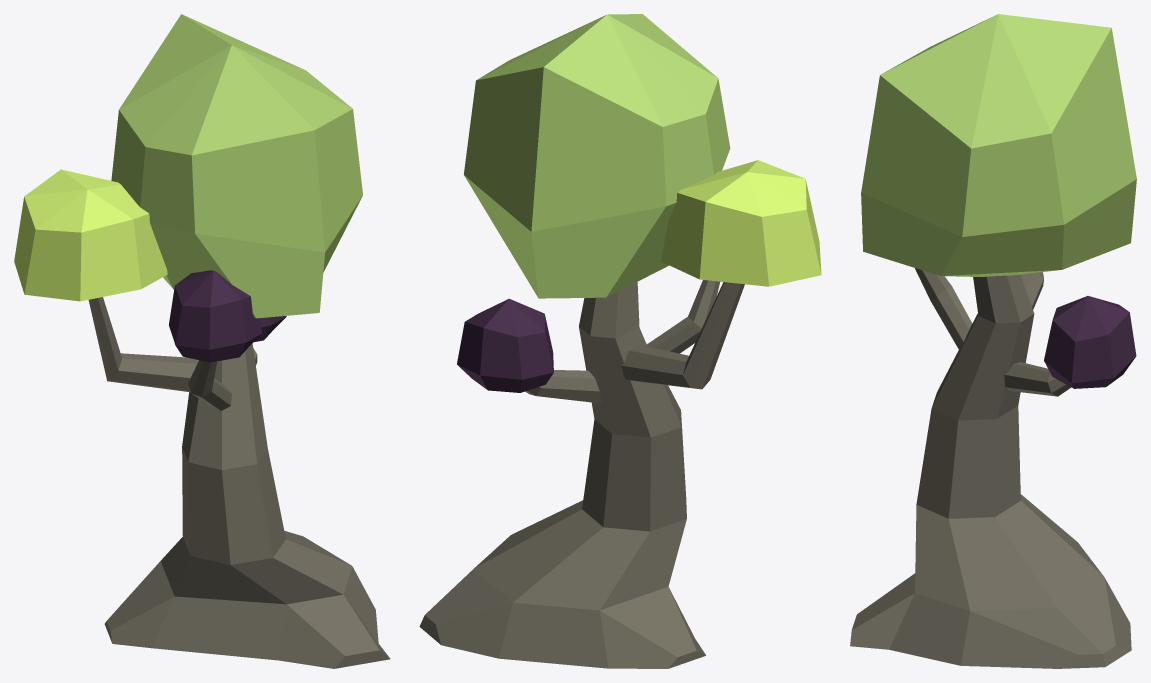
File: Puu3.fbx
The picture shows the model from 3 angles, left to right: view 1: azimuth 30°, elevation 25°; view 2: azimuth 150°, elevation 25°; view 3: azimuth 270°, elevation 25°; orthographic projection. The views are drawn at different scales.
Visible parts, largest first — view 1: Puu3; view 2: Puu3; view 3: Puu3.
Boxes of the visible parts, x1=… form: Puu3: x1=14, y1=14, x2=390, y2=668; Puu3: x1=419, y1=14, x2=821, y2=668; Puu3: x1=850, y1=14, x2=1136, y2=668.
Size of the model in its own units: 407 by 668 by 294.
